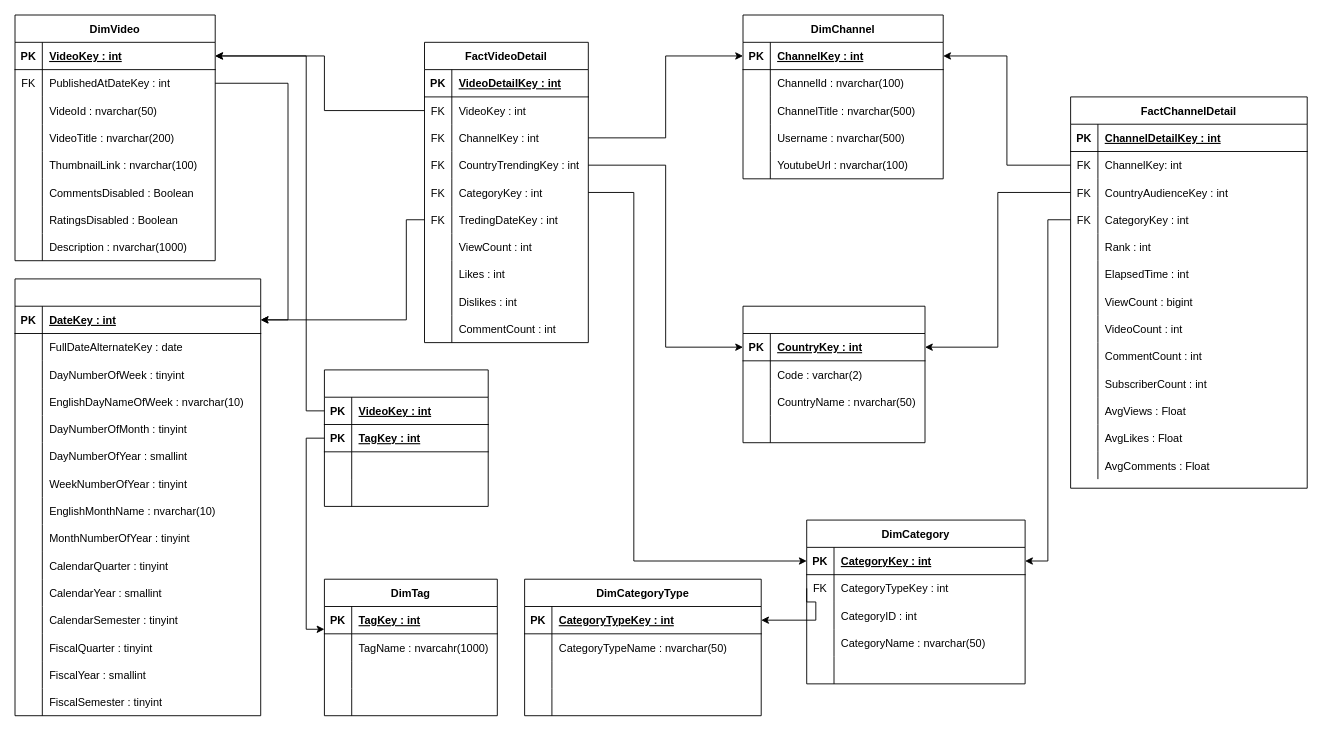
This 1322x731 diagram has some shape labels left out. The box of each missing label's shape, as (x1, y1, x2, y2) in pixels:
DimCountry: (742, 305, 925, 443)
DimVDate: (14, 278, 261, 716)
FactTag: (324, 369, 488, 506)
